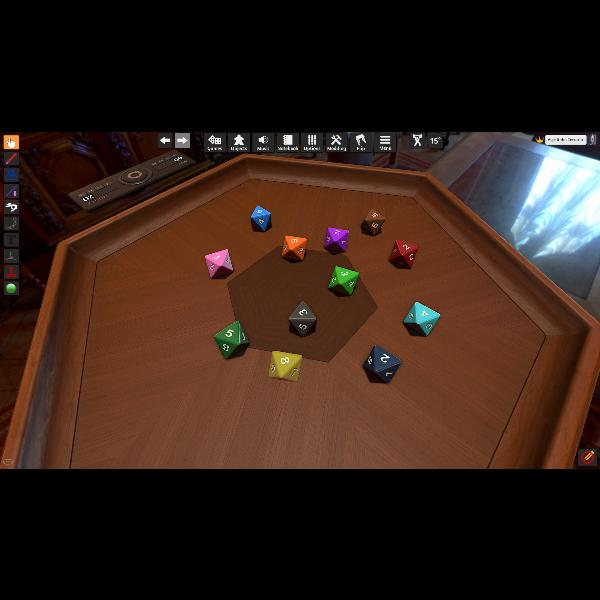d8: (364, 345, 400, 383), (214, 320, 248, 358), (404, 300, 438, 336), (289, 300, 317, 336), (272, 349, 302, 380), (328, 266, 358, 294), (203, 249, 231, 279), (390, 238, 416, 268), (324, 226, 350, 252), (282, 234, 306, 260), (363, 208, 384, 236), (251, 204, 271, 230)
